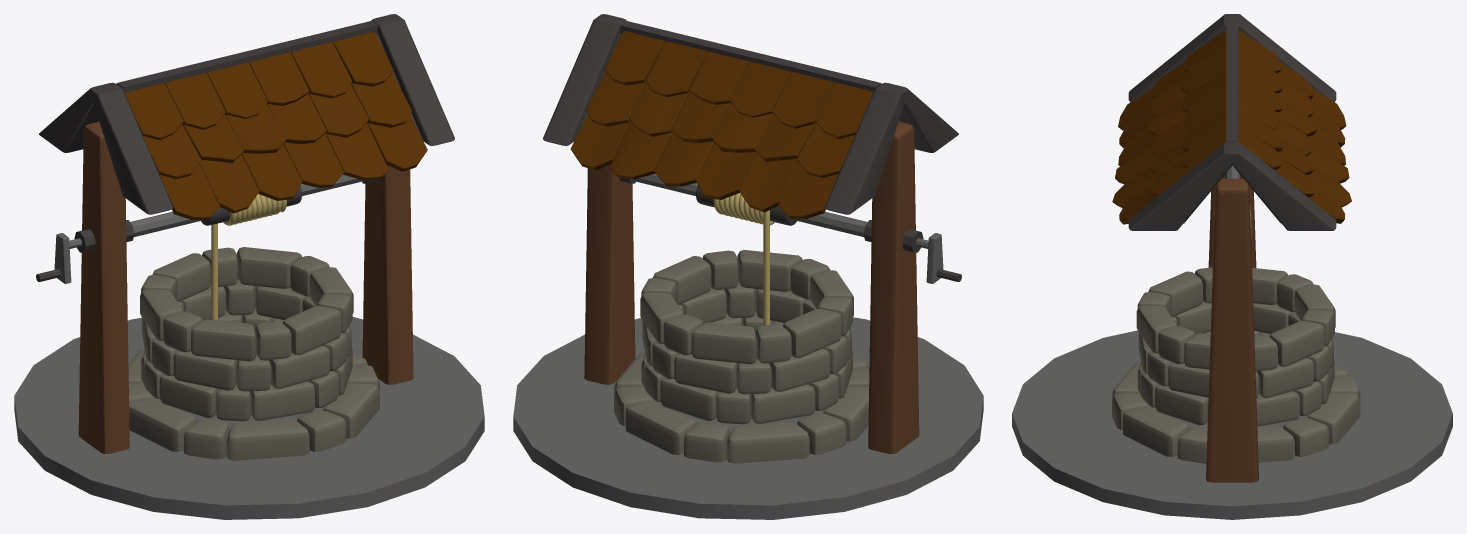
The model's file is well.fbx.
3 renders of one model, left to right at view 1: azimuth 30°, elevation 25°; view 2: azimuth 150°, elevation 25°; view 3: azimuth 270°, elevation 25°, orthographic. The views are drawn at different scales.
Parts seen in each view (by area): view 1: pCube17, pCylinder8, cover2, pCube19, pCube24, pCube21, pCube22, pCube45, rope, pCylinder1, pCube20; view 2: pCube17, pCylinder8, cover, pCube19, pCube24, pCube21, pCube22, pCube45, rope, pCylinder1, pCube20; view 3: pCylinder8, pCube17, pCube24, cover2, cover, pCube22, pCube21, pCube45, pCube19.
Part boxes in pixels (x1=…): pCube17: x1=128, y1=247, x2=379, y2=460; pCylinder8: x1=14, y1=315, x2=484, y2=519; cover2: x1=125, y1=31, x2=427, y2=219; pCube19: x1=78, y1=121, x2=129, y2=453; pCube24: x1=362, y1=165, x2=413, y2=384; pCube21: x1=39, y1=82, x2=173, y2=214; pCube22: x1=371, y1=14, x2=454, y2=145; pCube45: x1=116, y1=21, x2=377, y2=92; rope: x1=211, y1=194, x2=286, y2=320; pCylinder1: x1=130, y1=174, x2=365, y2=236; pCube20: x1=54, y1=233, x2=71, y2=283; pCube17: x1=614, y1=250, x2=869, y2=463; pCylinder8: x1=513, y1=317, x2=983, y2=519; cover: x1=570, y1=30, x2=873, y2=218; pCube19: x1=868, y1=121, x2=919, y2=453; pCube24: x1=584, y1=164, x2=635, y2=384; pCube21: x1=824, y1=82, x2=958, y2=214; pCube22: x1=543, y1=14, x2=626, y2=145; pCube45: x1=620, y1=21, x2=881, y2=91; rope: x1=713, y1=193, x2=774, y2=325; pCylinder1: x1=631, y1=173, x2=867, y2=236; pCube20: x1=926, y1=233, x2=943, y2=283; pCylinder8: x1=1012, y1=330, x2=1452, y2=519; pCube17: x1=1112, y1=267, x2=1360, y2=463; pCube24: x1=1206, y1=178, x2=1258, y2=482; cover2: x1=1112, y1=30, x2=1226, y2=224; cover: x1=1238, y1=30, x2=1351, y2=223; pCube22: x1=1128, y1=142, x2=1336, y2=230; pCube21: x1=1128, y1=14, x2=1336, y2=102; pCube45: x1=1226, y1=25, x2=1238, y2=141; pCube19: x1=1208, y1=175, x2=1256, y2=267.
Size of the model in its own units: 379 by 320 by 373.
